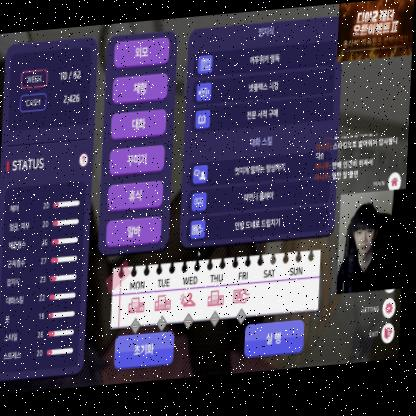streamer: (340, 208, 408, 299)
